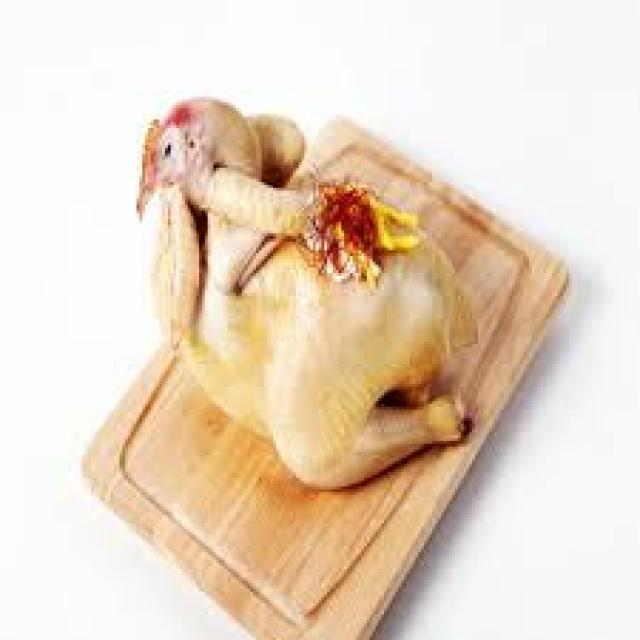chicken: (132, 97, 492, 487)
